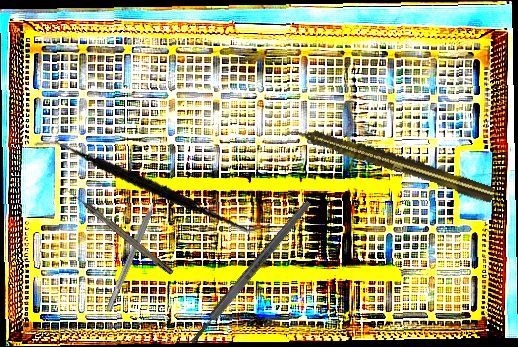Fixation Ring: (98, 178, 170, 315)
Handpiece: (284, 119, 496, 205)
Hook Surgical: (67, 187, 174, 277)
Scalpel Handle: (187, 198, 314, 347)
Spatula Surgical: (33, 104, 271, 265)
